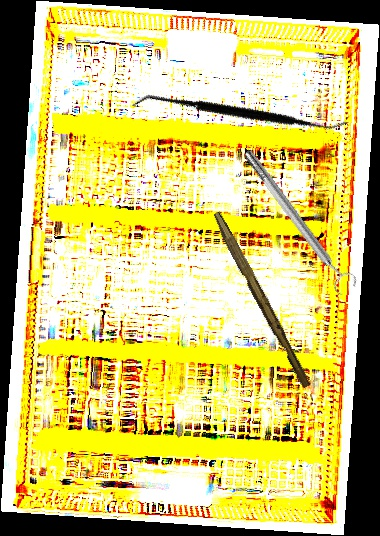Fixation Ring: (237, 143, 360, 299)
Scalpel Handle: (207, 210, 315, 390)
Spatula Surgical: (130, 25, 349, 203)
